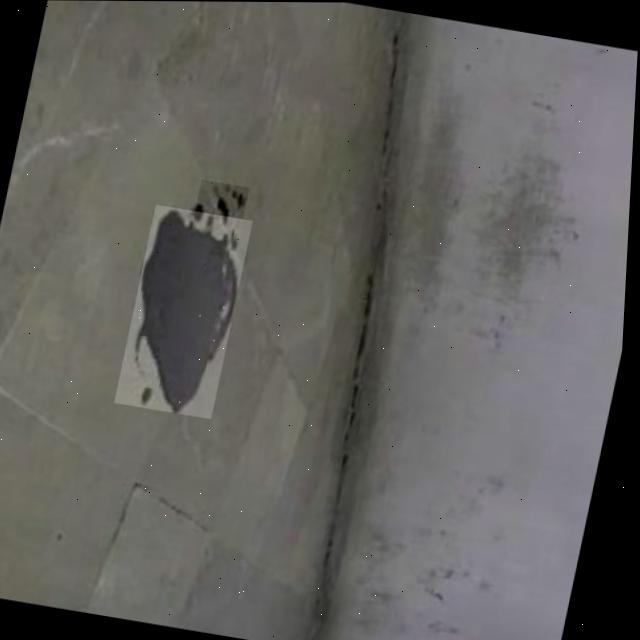spillage: (137, 208, 240, 412), (197, 183, 247, 227)
